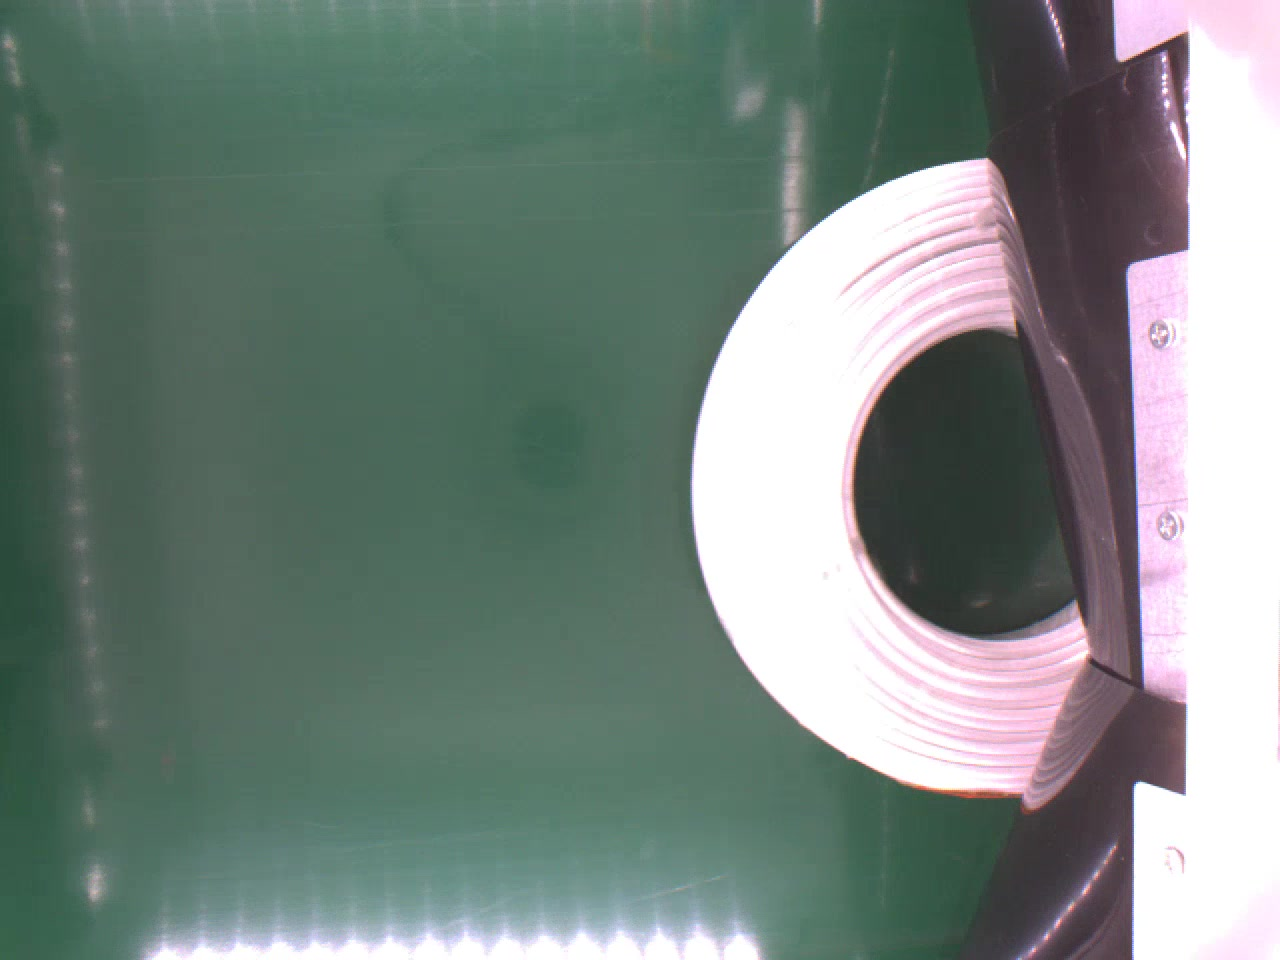white: (694, 153, 1092, 802)
